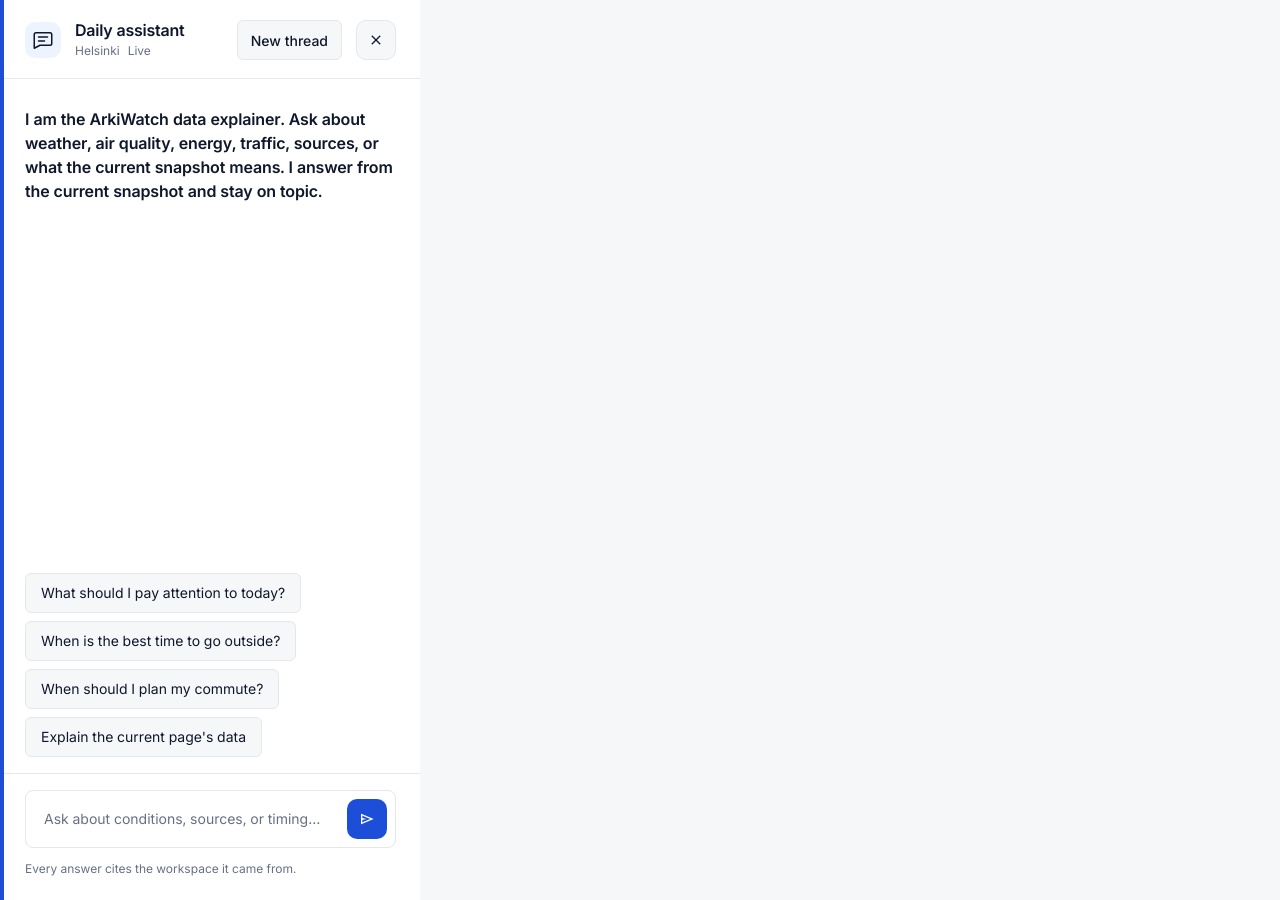
Test: AssistantRetryButton › shows a localized wait time when the assistant is rate limited
Type "What should I do?" into the field named "Ask about platform data" at (190, 819), box [42,799,337,839]
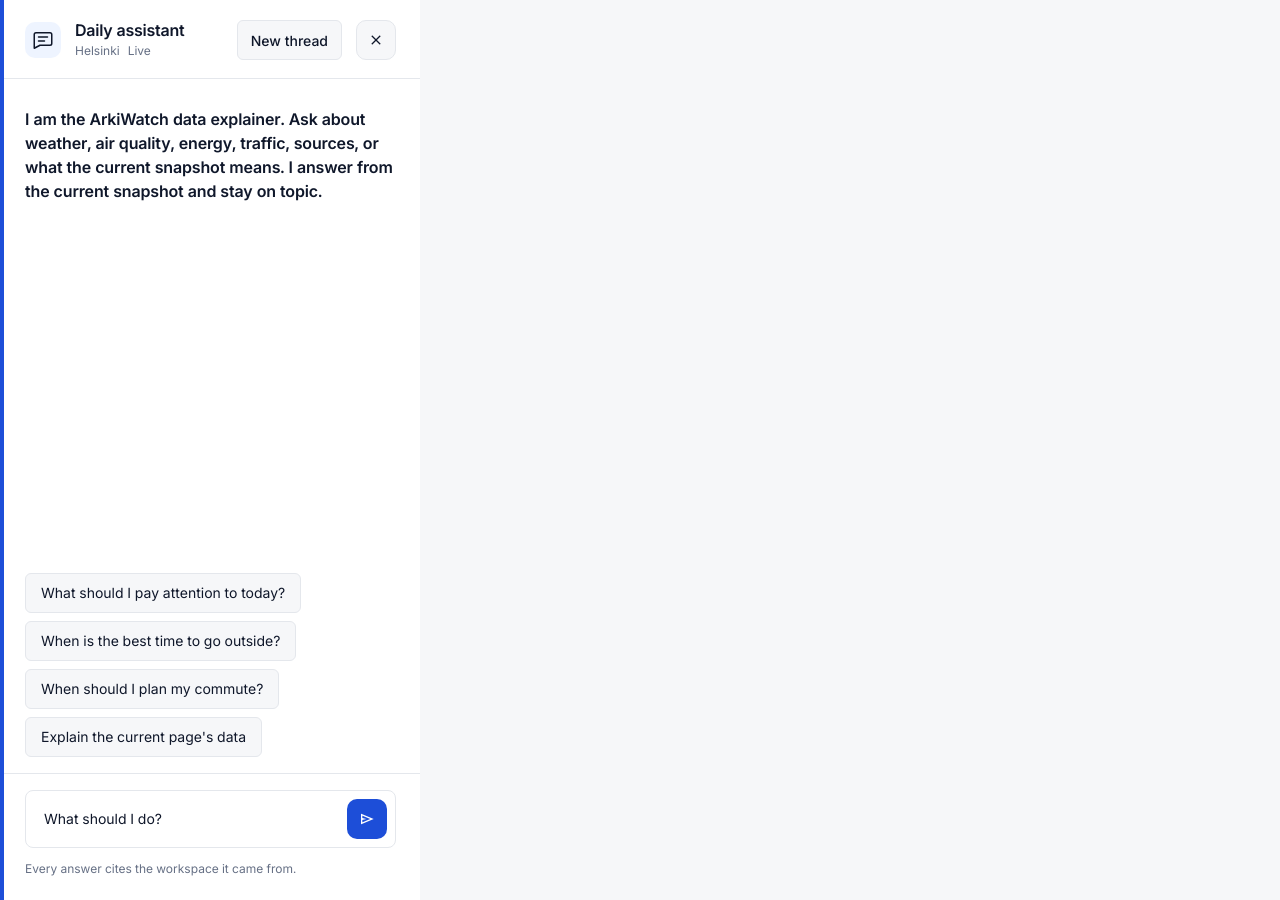
Submit the form named "Ask about platform data", box [1,773,420,899]
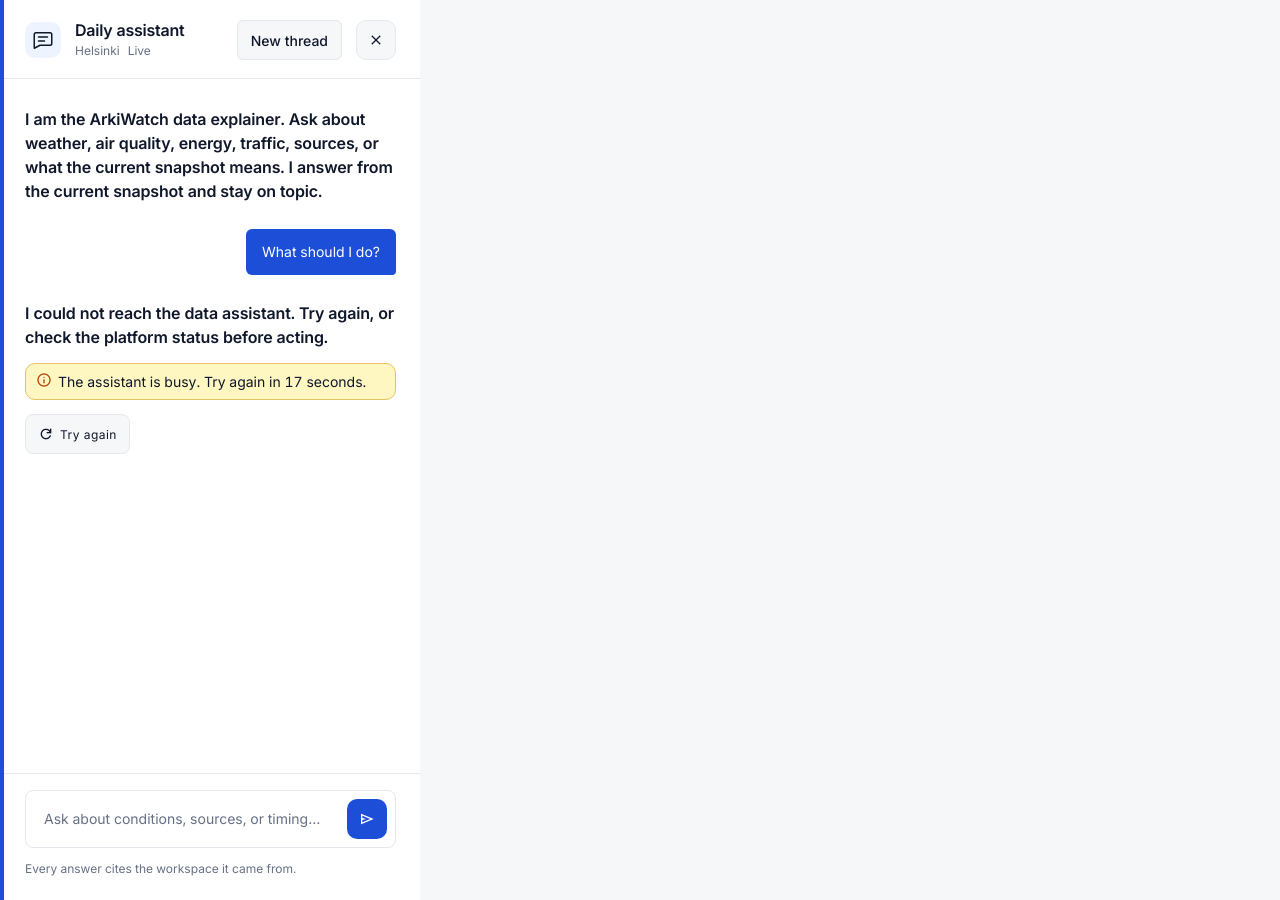
Now the text "The assistant is busy. Try again in 17 seconds." is shown, box [58,372,366,391]
